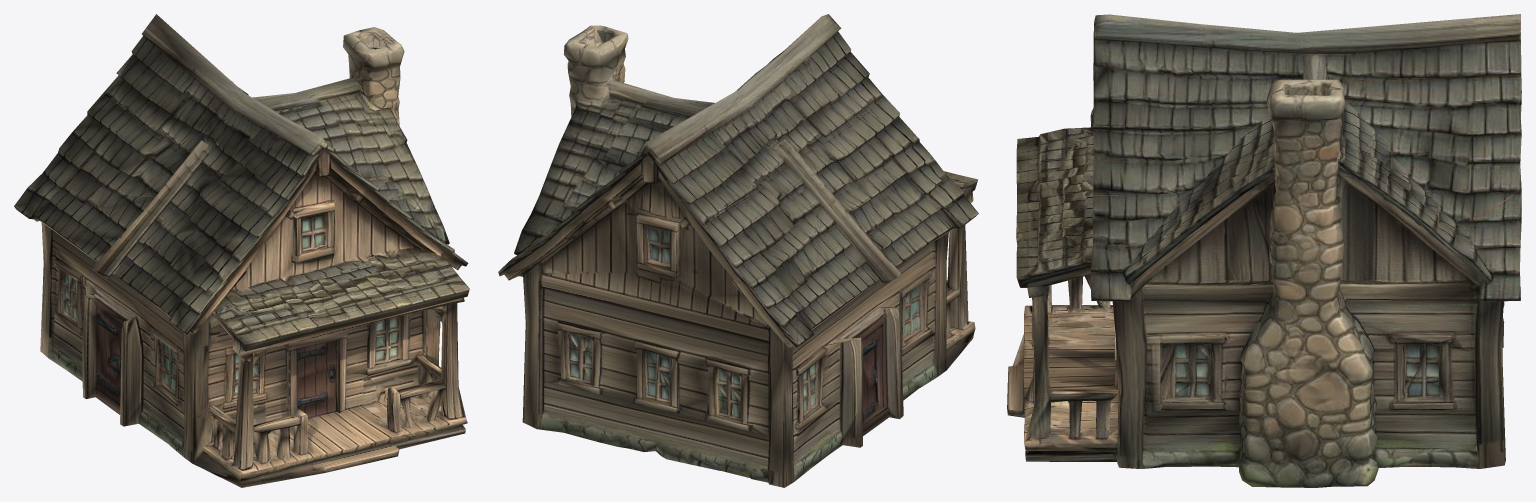
Rendered from house.glb.
3 views of the same model, side by side, from view 1: azimuth 30°, elevation 25°; view 2: azimuth 150°, elevation 25°; view 3: azimuth 270°, elevation 25° (orthographic). The views are drawn at different scales.
Visible parts, largest first — view 1: Mesh_0; view 2: Mesh_0; view 3: Mesh_0.
Part boxes in pixels (x1,y1,x2,y2): Mesh_0: [14, 14, 469, 487]; Mesh_0: [498, 14, 978, 487]; Mesh_0: [1007, 14, 1521, 487].
Size of the model in its own units: 1.65 by 1.57 by 1.9.
1 material, 1 textured.
